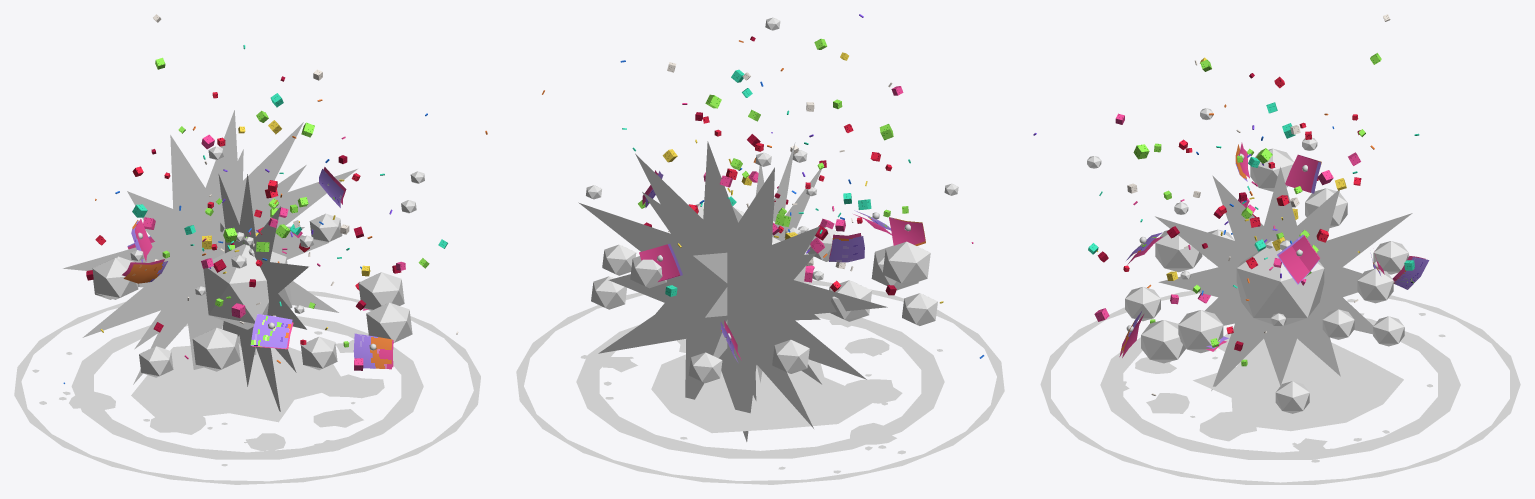
The model's file is Bloater Pop Blast.fbx.
3 views of the same model, side by side, from view 1: azimuth 30°, elevation 25°; view 2: azimuth 150°, elevation 25°; view 3: azimuth 270°, elevation 25° (orthographic). The views are drawn at different scales.
Parts seen in each view (by area): view 1: Bloater Pop Blast star pink, Bloater Pop Blast splat 0, Bloater Pop Blast shock ring, Bloater Pop Blast star yellow, Bloater Pop Blast star side, Bloater Pop Blast shock ring 2, Bloater Pop Blast fireball, Bloater Pop Blast puff 8, Bloater Pop Blast star white, Bloater Pop Blast puff 10, Bloater Pop Blast puff 11, Bloater Pop Blast puff 6 (+11 smaller); view 2: Bloater Pop Blast star pink, Bloater Pop Blast splat 0, Bloater Pop Blast shock ring, Bloater Pop Blast shock ring 2, Bloater Pop Blast star side, Bloater Pop Blast puff 6, Bloater Pop Blast splat 2, Bloater Pop Blast puff 4, Bloater Pop Blast puff 5, Bloater Pop Blast star yellow, Bloater Pop Blast puff 7, Bloater Pop Blast belly chunk 5 (+8 smaller); view 3: Bloater Pop Blast star side, Bloater Pop Blast splat 0, Bloater Pop Blast shock ring, Bloater Pop Blast shock ring 2, Bloater Pop Blast fireball, Bloater Pop Blast puff 10, Bloater Pop Blast puff 11, Bloater Pop Blast puff 8, Bloater Pop Blast splat 1, Bloater Pop Blast belly chunk 2, Bloater Pop Blast puff 6, Bloater Pop Blast puff 2 (+9 smaller).
Part boxes in pixels (bbox=[...]): Bloater Pop Blast star pink: bbox=[63, 110, 357, 384]; Bloater Pop Blast splat 0: bbox=[131, 343, 340, 422]; Bloater Pop Blast shock ring: bbox=[71, 316, 423, 459]; Bloater Pop Blast star yellow: bbox=[134, 149, 306, 349]; Bloater Pop Blast star side: bbox=[218, 174, 308, 411]; Bloater Pop Blast shock ring 2: bbox=[14, 291, 480, 484]; Bloater Pop Blast fireball: bbox=[203, 244, 292, 329]; Bloater Pop Blast puff 8: bbox=[192, 327, 240, 371]; Bloater Pop Blast star white: bbox=[177, 203, 265, 317]; Bloater Pop Blast puff 10: bbox=[366, 302, 412, 342]; Bloater Pop Blast puff 11: bbox=[358, 272, 404, 310]; Bloater Pop Blast puff 6: bbox=[92, 258, 138, 299]; Bloater Pop Blast star pink: bbox=[578, 141, 887, 441]; Bloater Pop Blast splat 0: bbox=[651, 354, 871, 433]; Bloater Pop Blast shock ring: bbox=[576, 313, 944, 458]; Bloater Pop Blast shock ring 2: bbox=[516, 280, 1004, 484]; Bloater Pop Blast star side: bbox=[693, 142, 824, 382]; Bloater Pop Blast puff 6: bbox=[882, 241, 930, 285]; Bloater Pop Blast splat 2: bbox=[840, 379, 902, 403]; Bloater Pop Blast puff 4: bbox=[772, 339, 809, 373]; Bloater Pop Blast puff 5: bbox=[829, 280, 871, 321]; Bloater Pop Blast star yellow: bbox=[642, 192, 821, 400]; Bloater Pop Blast puff 7: bbox=[902, 293, 937, 325]; Bloater Pop Blast belly chunk 5: bbox=[829, 233, 864, 262]; Bloater Pop Blast star side: bbox=[1155, 167, 1412, 390]; Bloater Pop Blast splat 0: bbox=[1193, 338, 1403, 431]; Bloater Pop Blast shock ring: bbox=[1100, 318, 1460, 459]; Bloater Pop Blast shock ring 2: bbox=[1040, 291, 1520, 484]; Bloater Pop Blast fireball: bbox=[1236, 246, 1324, 326]; Bloater Pop Blast puff 10: bbox=[1141, 320, 1185, 363]; Bloater Pop Blast puff 11: bbox=[1178, 310, 1223, 353]; Bloater Pop Blast puff 8: bbox=[1155, 230, 1202, 272]; Bloater Pop Blast splat 1: bbox=[1199, 411, 1256, 441]; Bloater Pop Blast belly chunk 2: bbox=[1277, 234, 1319, 284]; Bloater Pop Blast puff 6: bbox=[1250, 148, 1293, 191]; Bloater Pop Blast puff 2: bbox=[1357, 268, 1393, 303].
Bounding box in the file's own units: 4.88 × 4.1 × 4.73.
31 materials, 15 textured.
